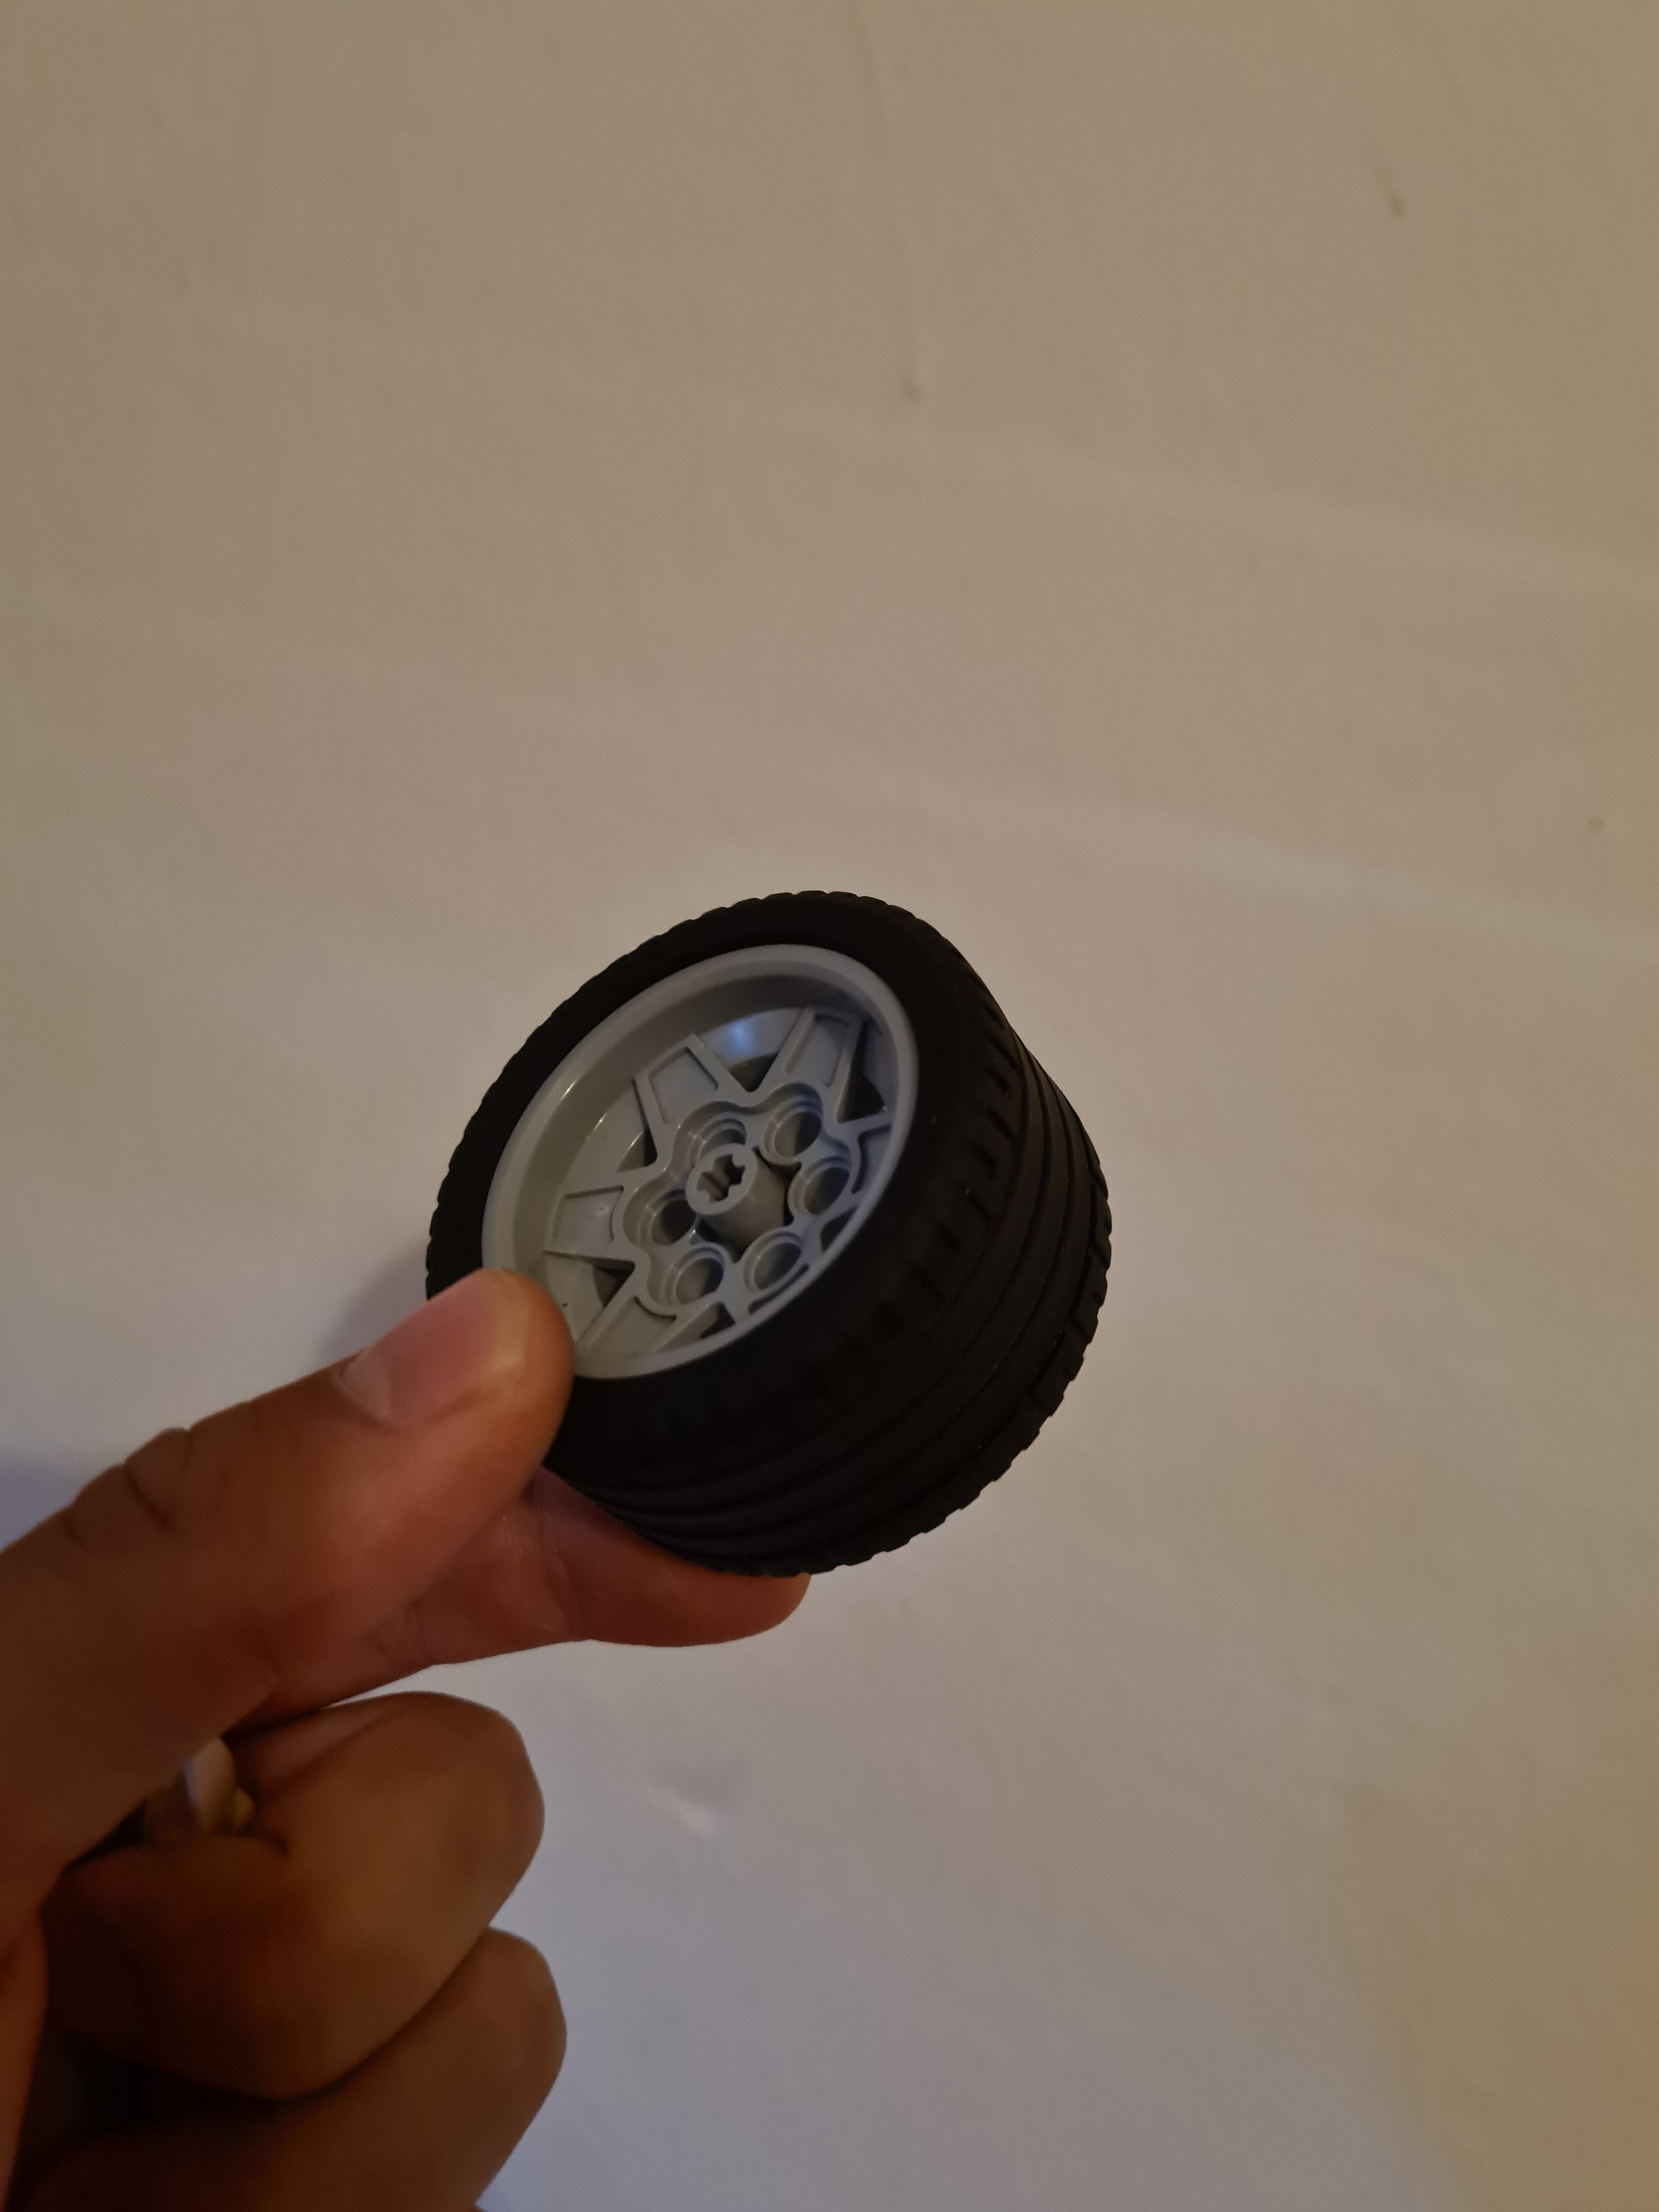Rad: (403, 857, 1133, 1585)
